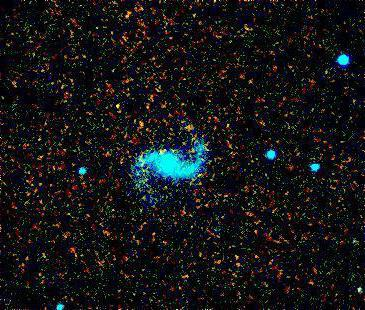star: (173, 111, 203, 141)
